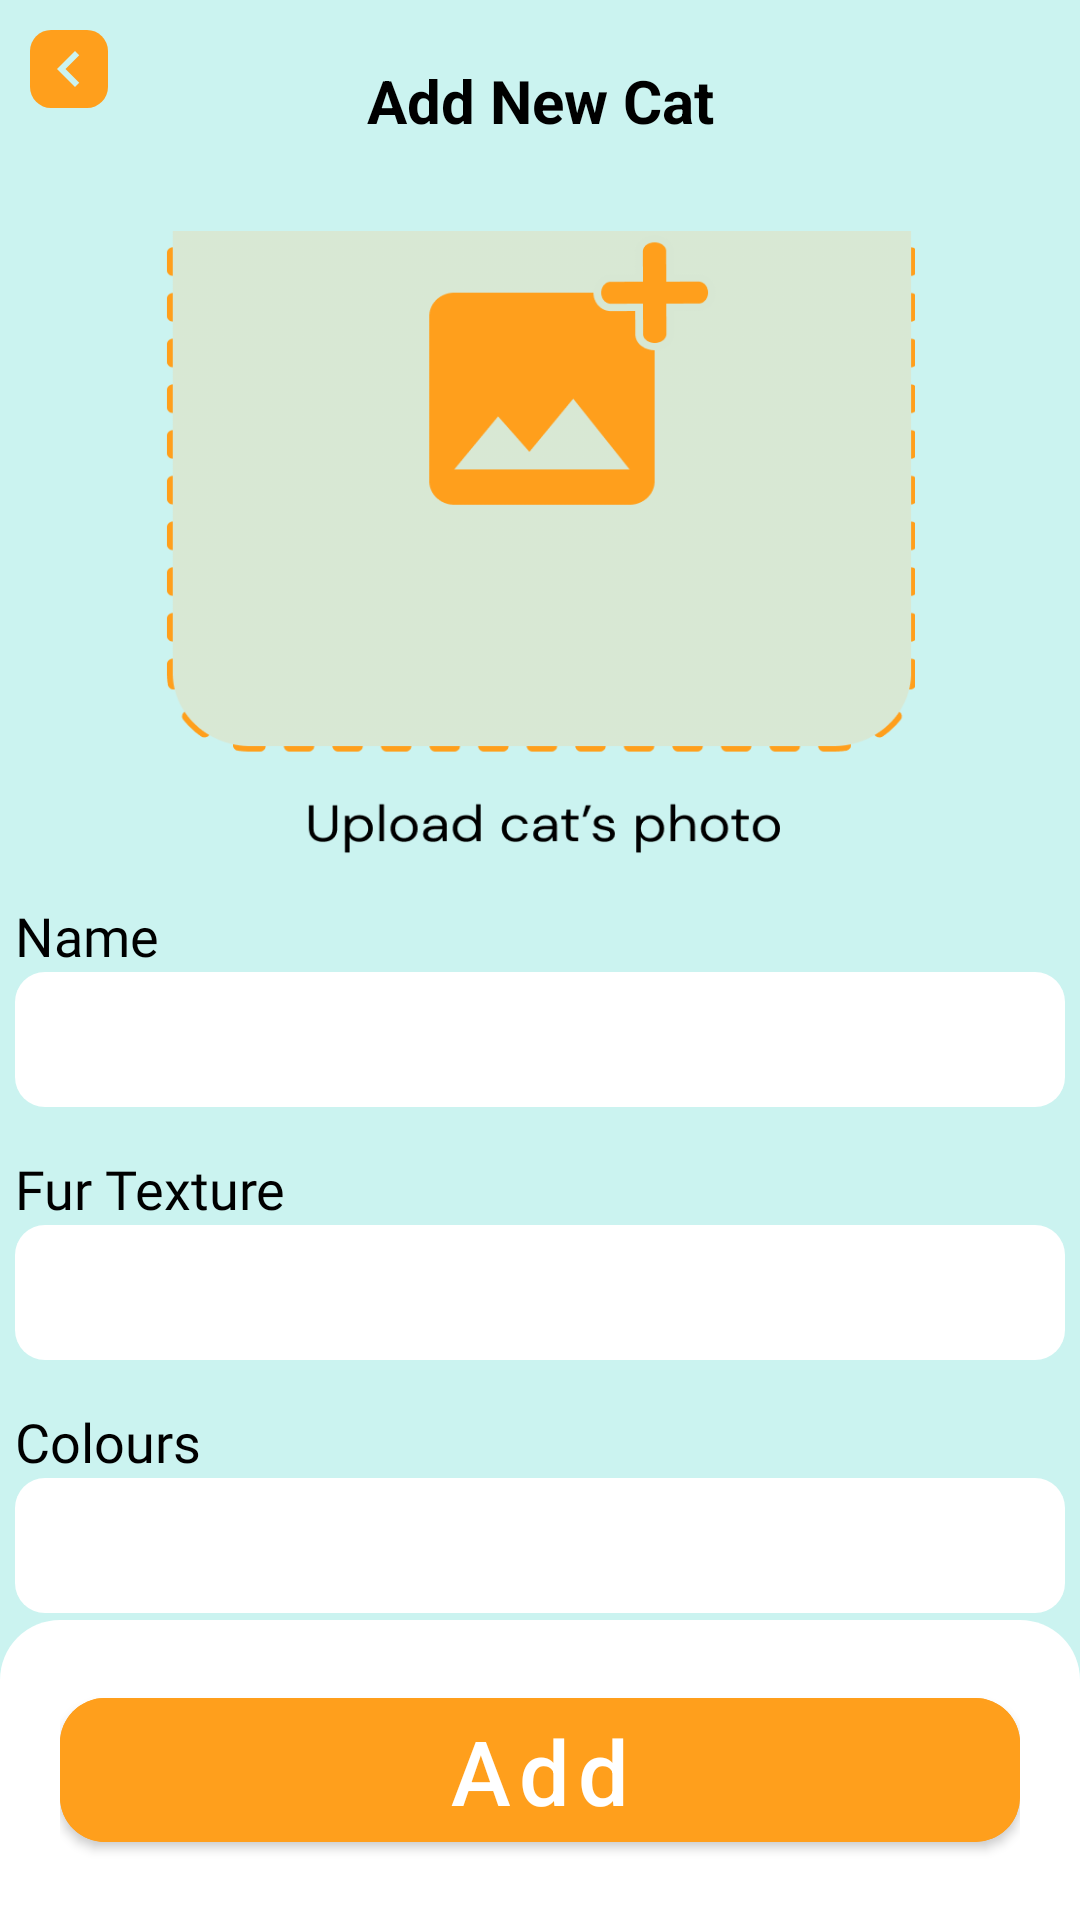

Icon click points for this 1080px x 1920px phone screenshot, format point (x, y):
cheveron: point (69, 69)
